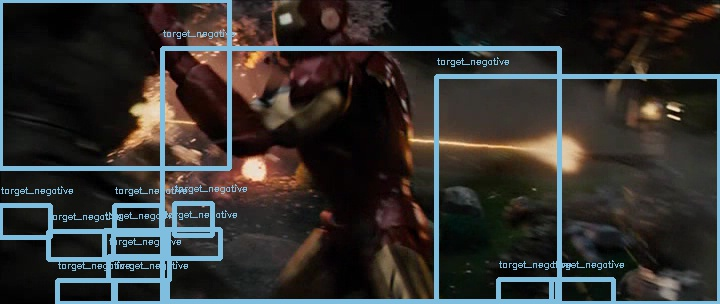person: (270, 3, 338, 56), (269, 3, 337, 56), (271, 3, 339, 56), (270, 2, 338, 55), (270, 4, 338, 57)
target_negative: (22, 44, 665, 83), (17, 48, 61, 172), (353, 67, 428, 113), (698, 140, 720, 241), (389, 76, 538, 85), (657, 240, 704, 258)
